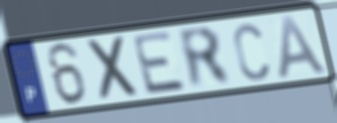6: (45, 41, 89, 109)
A: (277, 14, 331, 81)
C: (231, 21, 271, 83)
E: (130, 29, 190, 97)
R: (174, 25, 236, 92)
X: (84, 33, 143, 105)
